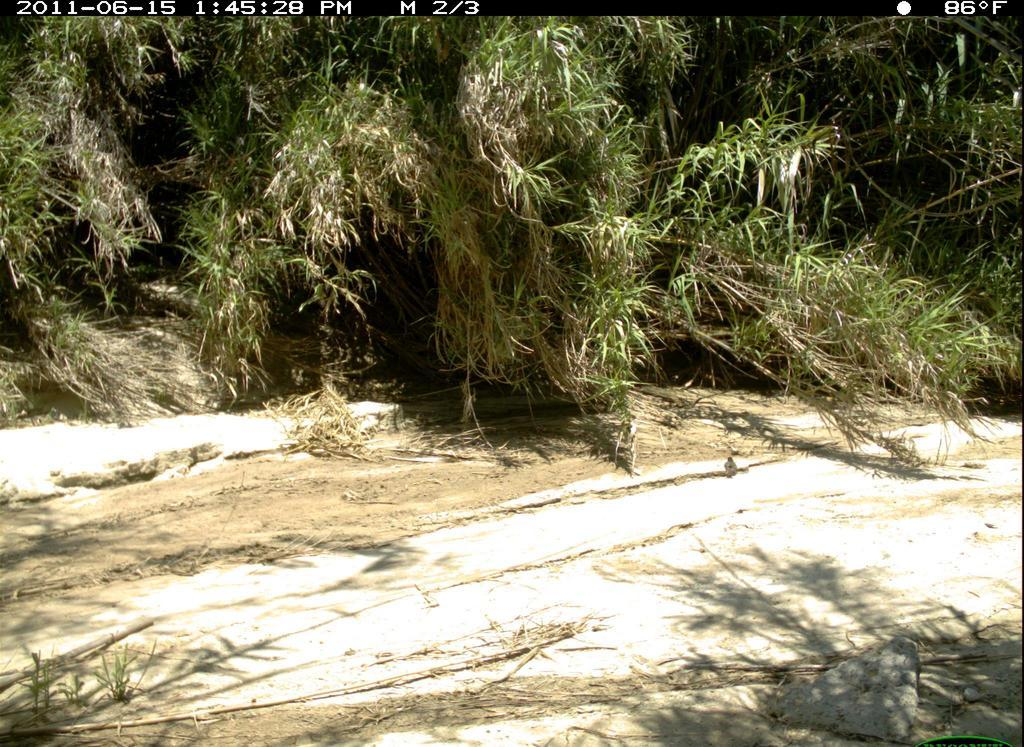bird: (720, 448, 744, 485)
